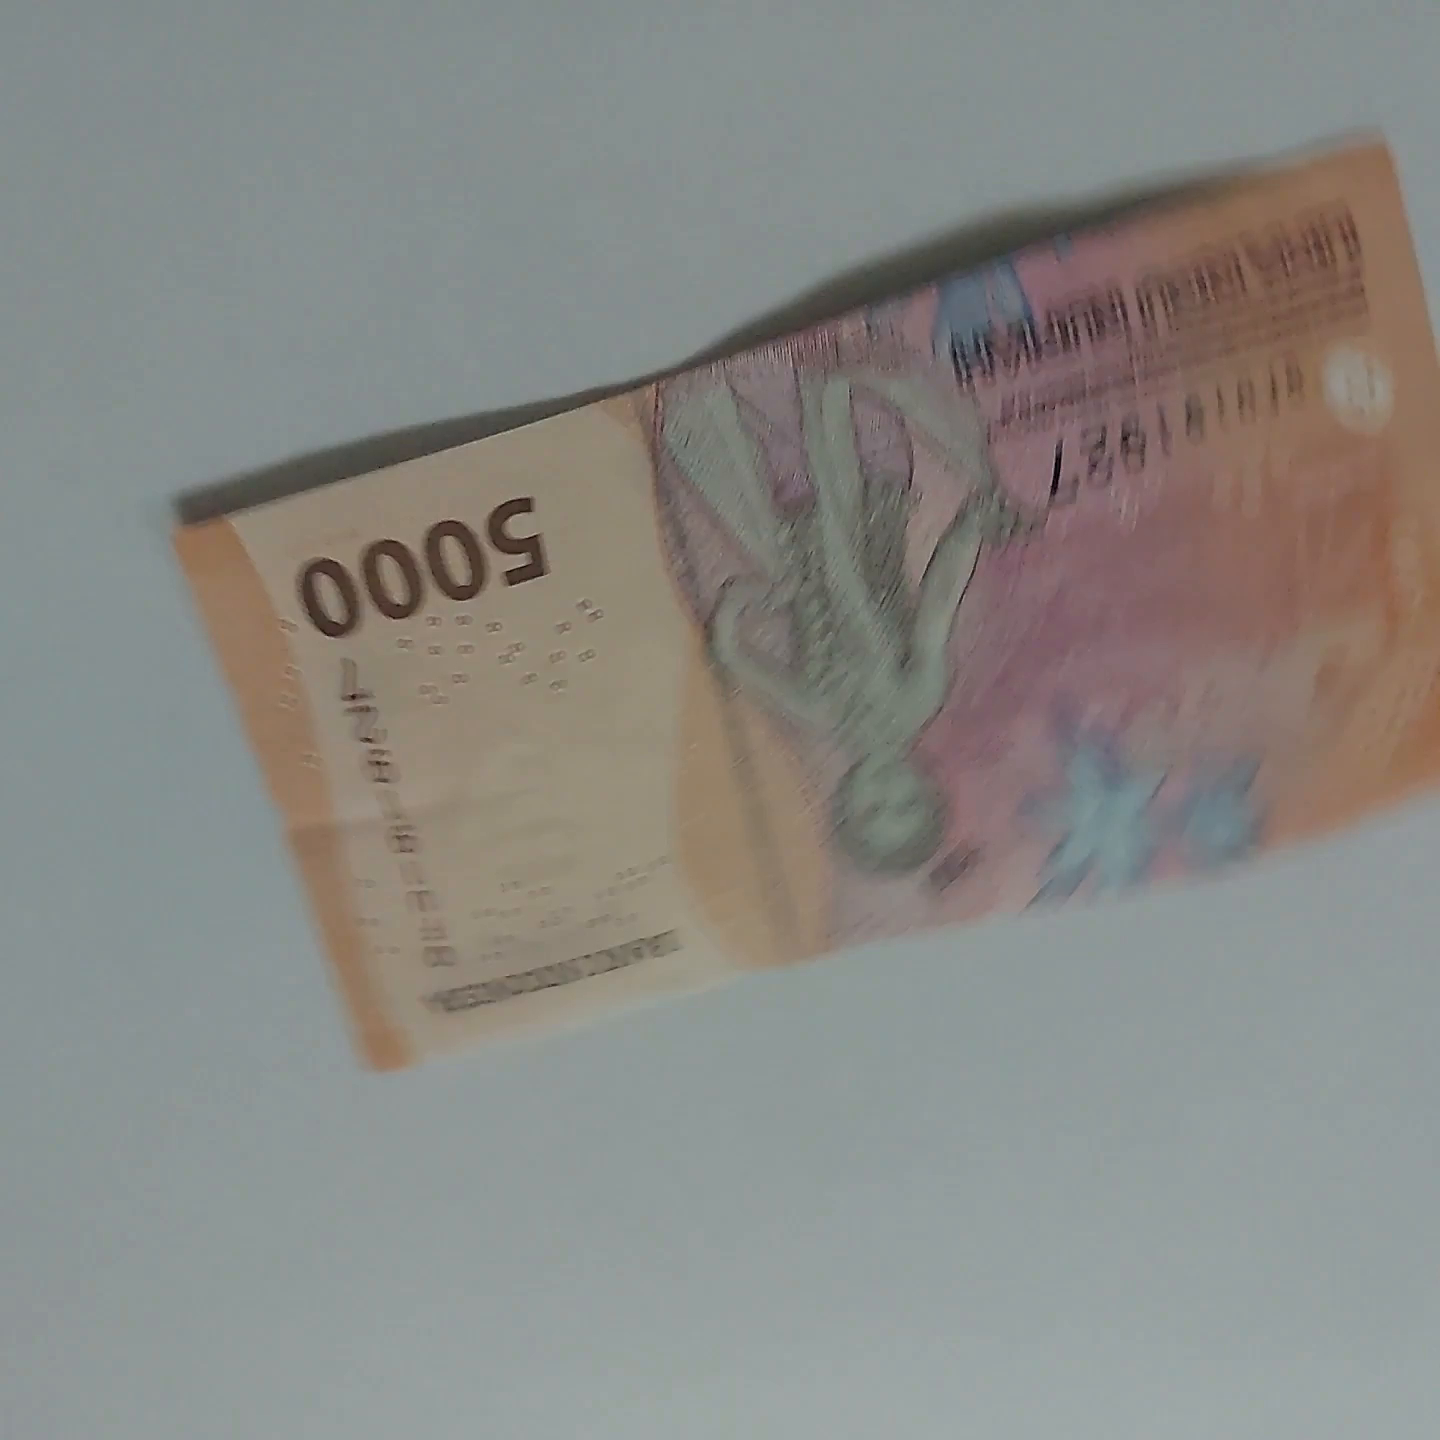5k: (203, 167, 1440, 1095)
